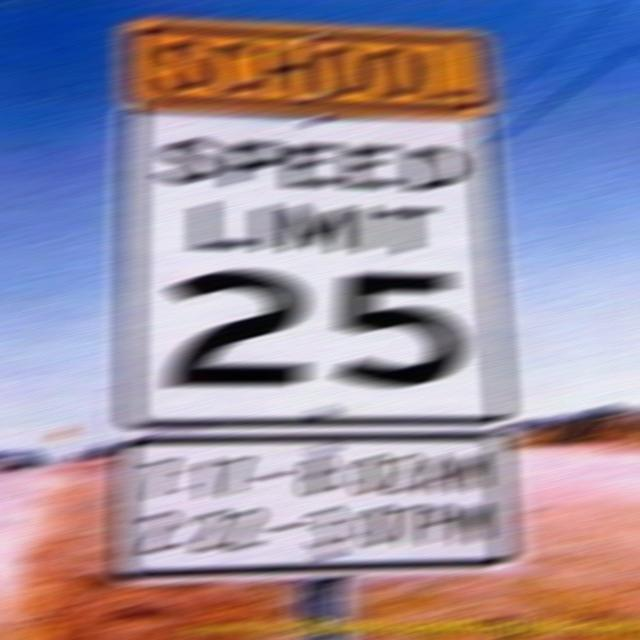speedLimit25: (124, 105, 510, 428)
